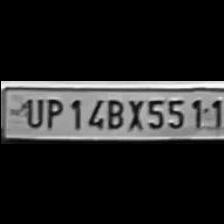1: (63, 94, 83, 130), (188, 95, 206, 129), (204, 95, 222, 129)
4: (82, 94, 104, 128)
5: (142, 94, 164, 130), (164, 94, 186, 128)
B: (102, 95, 124, 129)
P: (41, 94, 64, 128)
U: (18, 94, 42, 128)
X: (124, 95, 144, 129)
